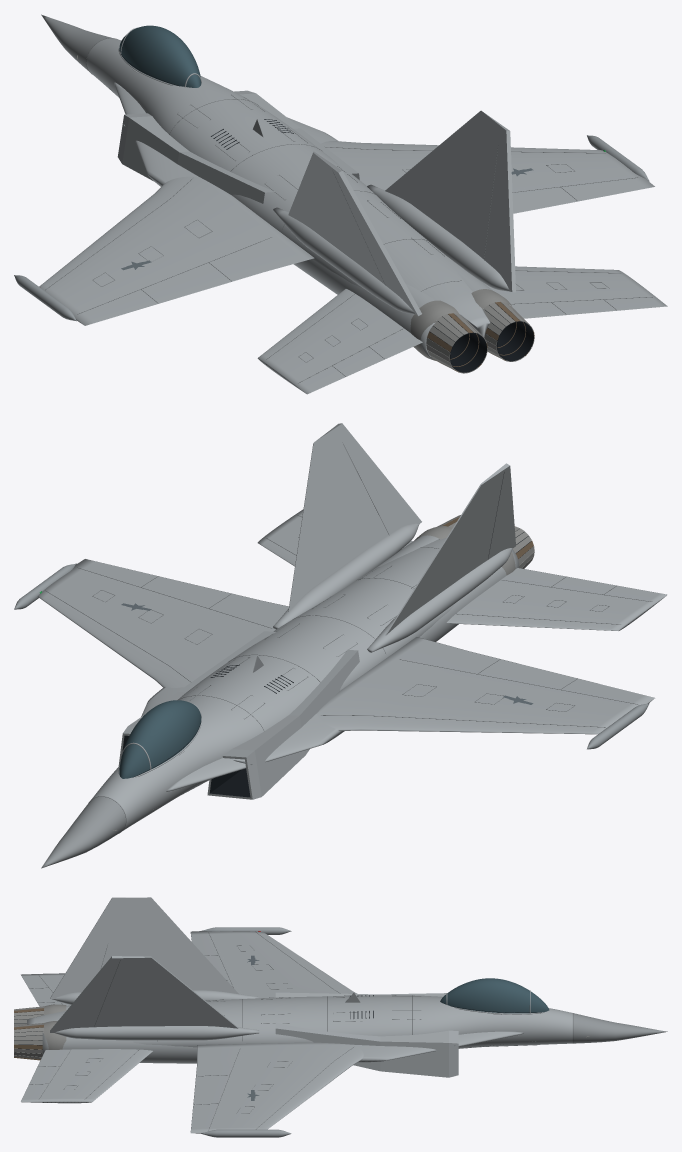
3 views of the same model, one above another, from view 1: azimuth 30°, elevation 25°; view 2: azimuth 150°, elevation 25°; view 3: azimuth 270°, elevation 25° (orthographic). The views are drawn at different scales.
Parts seen in each view (by area): view 1: fa-18e | continuous fuselage, fa-18e | main wing L, fa-18e | vertical stabilizer.001, fa-18e | main wing R, fa-18e | all moving tailplane L, fa-18e | vertical stabilizer, fa-18e | all moving tailplane R, fa-18e | intake external cowl and belly fairing.002, fa-18e | single seat canopy glazing, fa-18e | fin root fillet.001, fa-18e | fin root fillet, fa-18e | engine nacelle (+7 smaller); view 2: fa-18e | continuous fuselage, fa-18e | main wing L, fa-18e | main wing R, fa-18e | vertical stabilizer.001, fa-18e | all moving tailplane L, fa-18e | vertical stabilizer, fa-18e | intake external cowl and belly fairing.002, fa-18e | single seat canopy glazing, fa-18e | fin root fillet.001, fa-18e | fin root fillet, fa-18e | leading edge root extension L, fa-18e | all moving tailplane R (+4 smaller); view 3: fa-18e | continuous fuselage, fa-18e | main wing R, fa-18e | vertical stabilizer.001, fa-18e | vertical stabilizer, fa-18e | main wing L, fa-18e | all moving tailplane R, fa-18e | intake external cowl and belly fairing.003, fa-18e | single seat canopy glazing, fa-18e | fin root fillet.001, fa-18e | engine nacelle.001, fa-18e | leading edge root extension R, fa-18e | all moving tailplane L (+5 smaller).
Boxes of the visible parts, <box> form: fa-18e | continuous fuselage: <box>41,14,490,337</box>; fa-18e | main wing L: <box>39,176,314,325</box>; fa-18e | vertical stabilizer.001: <box>385,110,515,292</box>; fa-18e | main wing R: <box>321,141,654,213</box>; fa-18e | all moving tailplane L: <box>257,289,422,394</box>; fa-18e | vertical stabilizer: <box>288,151,421,315</box>; fa-18e | all moving tailplane R: <box>482,266,667,318</box>; fa-18e | intake external cowl and belly fairing.002: <box>117,113,274,203</box>; fa-18e | single seat canopy glazing: <box>119,25,201,87</box>; fa-18e | fin root fillet.001: <box>367,184,511,291</box>; fa-18e | fin root fillet: <box>273,207,415,314</box>; fa-18e | engine nacelle: <box>293,259,437,358</box>; fa-18e | continuous fuselage: <box>41,538,456,868</box>; fa-18e | main wing L: <box>317,637,654,734</box>; fa-18e | main wing R: <box>37,559,288,687</box>; fa-18e | vertical stabilizer.001: <box>288,423,421,611</box>; fa-18e | all moving tailplane L: <box>446,568,667,630</box>; fa-18e | vertical stabilizer: <box>385,463,515,635</box>; fa-18e | intake external cowl and belly fairing.002: <box>223,649,359,799</box>; fa-18e | single seat canopy glazing: <box>119,700,201,778</box>; fa-18e | fin root fillet.001: <box>273,523,419,629</box>; fa-18e | fin root fillet: <box>367,548,512,652</box>; fa-18e | leading edge root extension L: <box>166,713,344,792</box>; fa-18e | all moving tailplane R: <box>257,509,412,566</box>; fa-18e | continuous fuselage: <box>27,995,667,1048</box>; fa-18e | main wing R: <box>190,1042,363,1133</box>; fa-18e | vertical stabilizer.001: <box>50,956,238,1032</box>; fa-18e | vertical stabilizer: <box>50,897,238,998</box>; fa-18e | main wing L: <box>190,931,357,998</box>; fa-18e | all moving tailplane R: <box>21,1049,152,1103</box>; fa-18e | intake external cowl and belly fairing.003: <box>275,1022,458,1077</box>; fa-18e | single seat canopy glazing: <box>440,978,549,1013</box>; fa-18e | fin root fillet.001: <box>55,1026,259,1040</box>; fa-18e | engine nacelle.001: <box>42,1031,196,1063</box>; fa-18e | leading edge root extension R: <box>354,1031,523,1062</box>; fa-18e | all moving tailplane L: <box>21,973,70,1006</box>.
Size of the model in its own units: 13.69 by 3.92 by 18.38.
